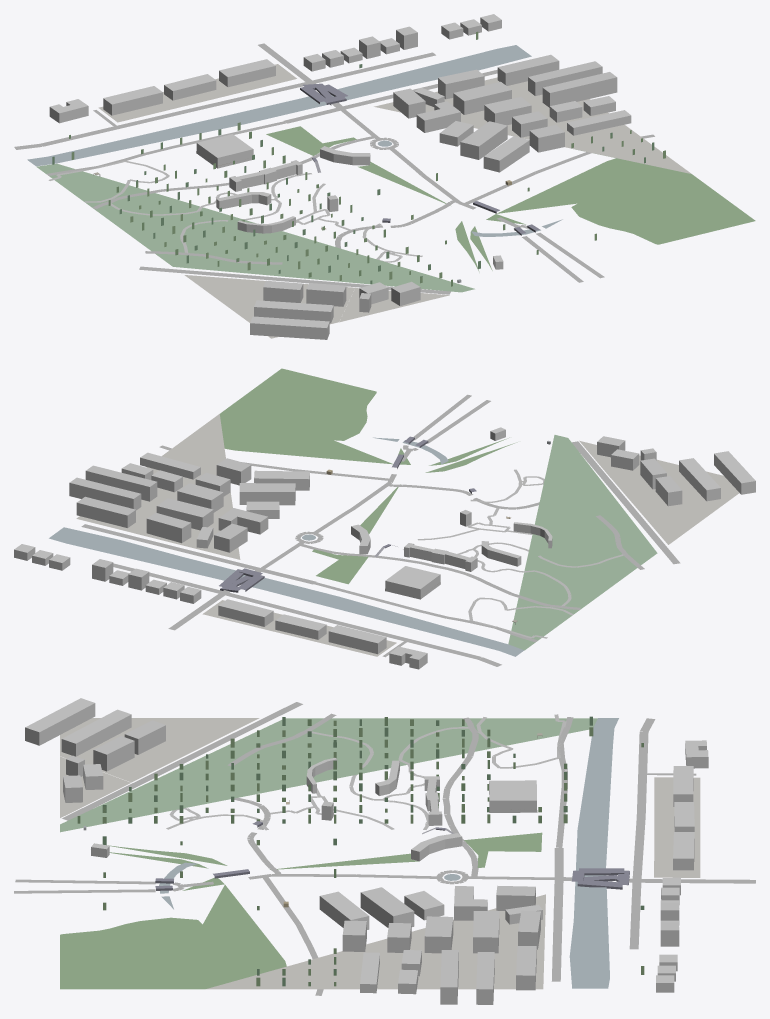
The picture shows the model from 3 angles, top to bottom: view 1: azimuth 30°, elevation 25°; view 2: azimuth 150°, elevation 25°; view 3: azimuth 270°, elevation 25°; orthographic projection. The views are drawn at different scales.
Bounding box in the file's own units: 559 × 16.75 × 579.
